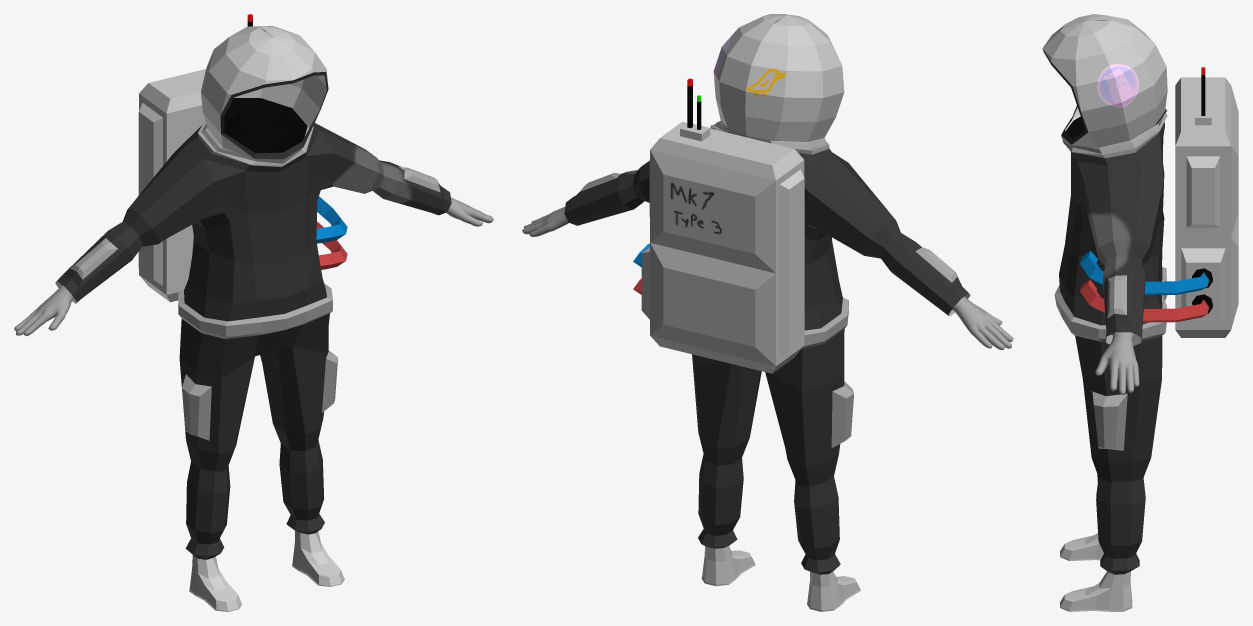
File: CD-ARIOSF2.glb
3 views of the same model, side by side, from view 1: azimuth 30°, elevation 25°; view 2: azimuth 150°, elevation 25°; view 3: azimuth 270°, elevation 25° (orthographic). The views are drawn at different scales.
Visible parts, largest first — view 1: Flight Suit; view 2: Flight Suit; view 3: Flight Suit.
Part boxes in pixels (x1,y1,x2,y2): Flight Suit: [14, 14, 493, 611]; Flight Suit: [522, 14, 1013, 611]; Flight Suit: [1042, 14, 1238, 611].
Size of the model in its own units: 1.6 by 1.77 by 0.561.
Materials: 3 (3 with a texture image).
